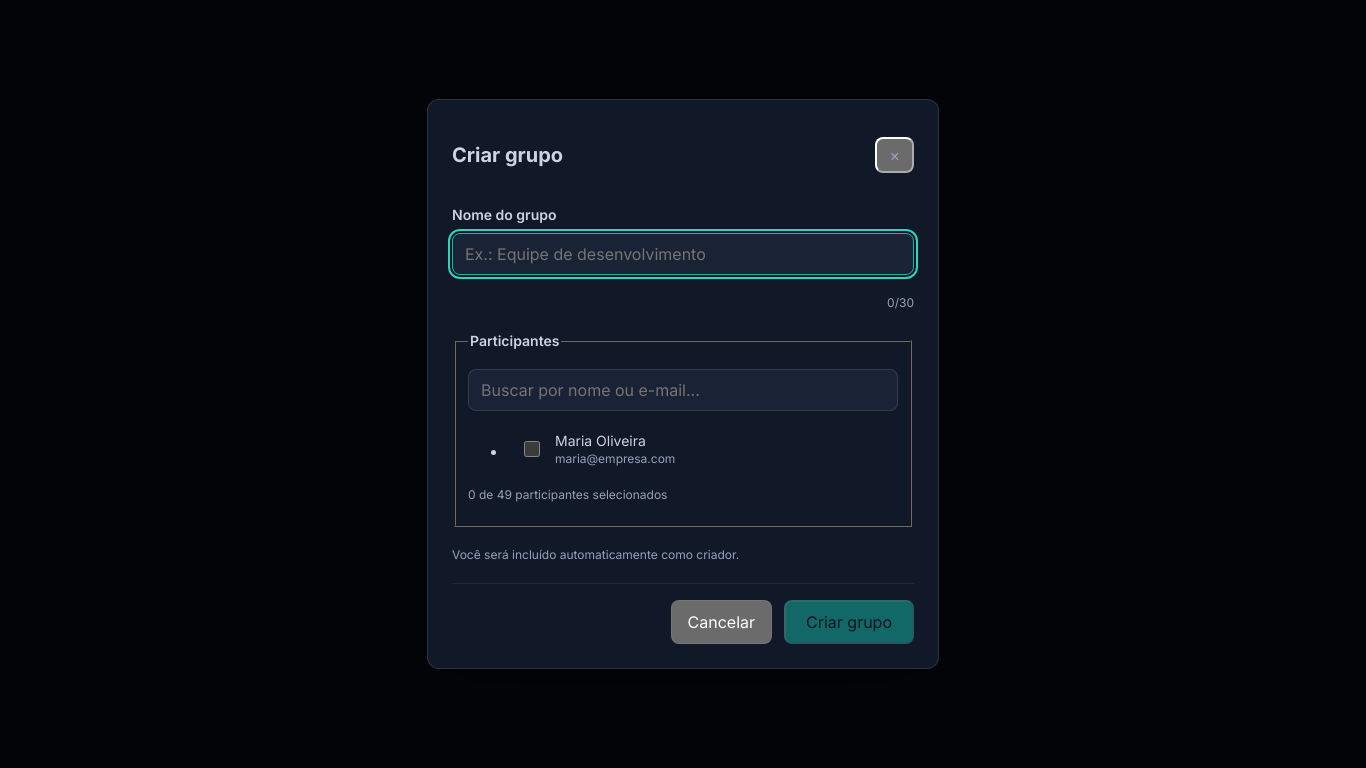
Test: deve rejeitar uma resposta sem grupo válido
Type "  Equipe  " into the field labelled "Nome do grupo" at (683, 254), box [452,233,914,275]
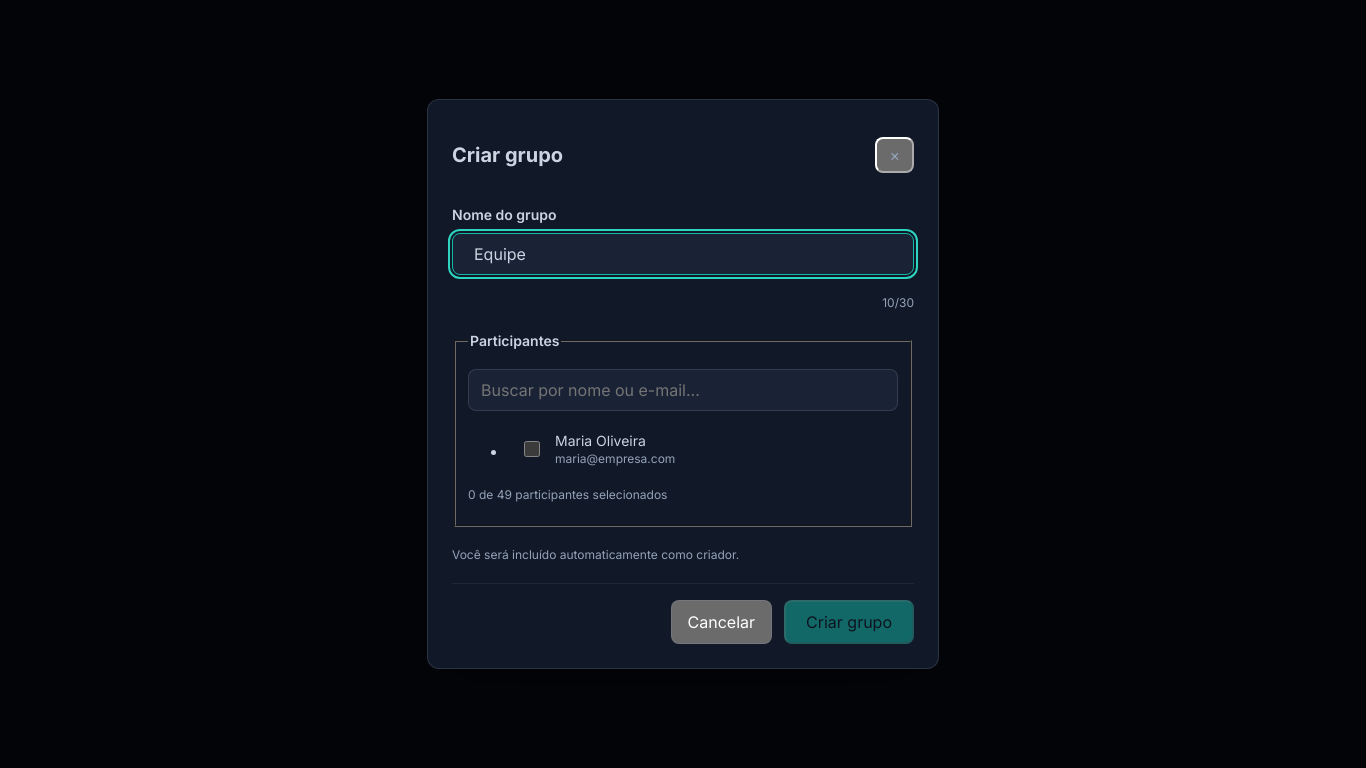
Click the checkbox named "Selecionar Maria Oliveira" at (532, 449), box [524,441,540,457]
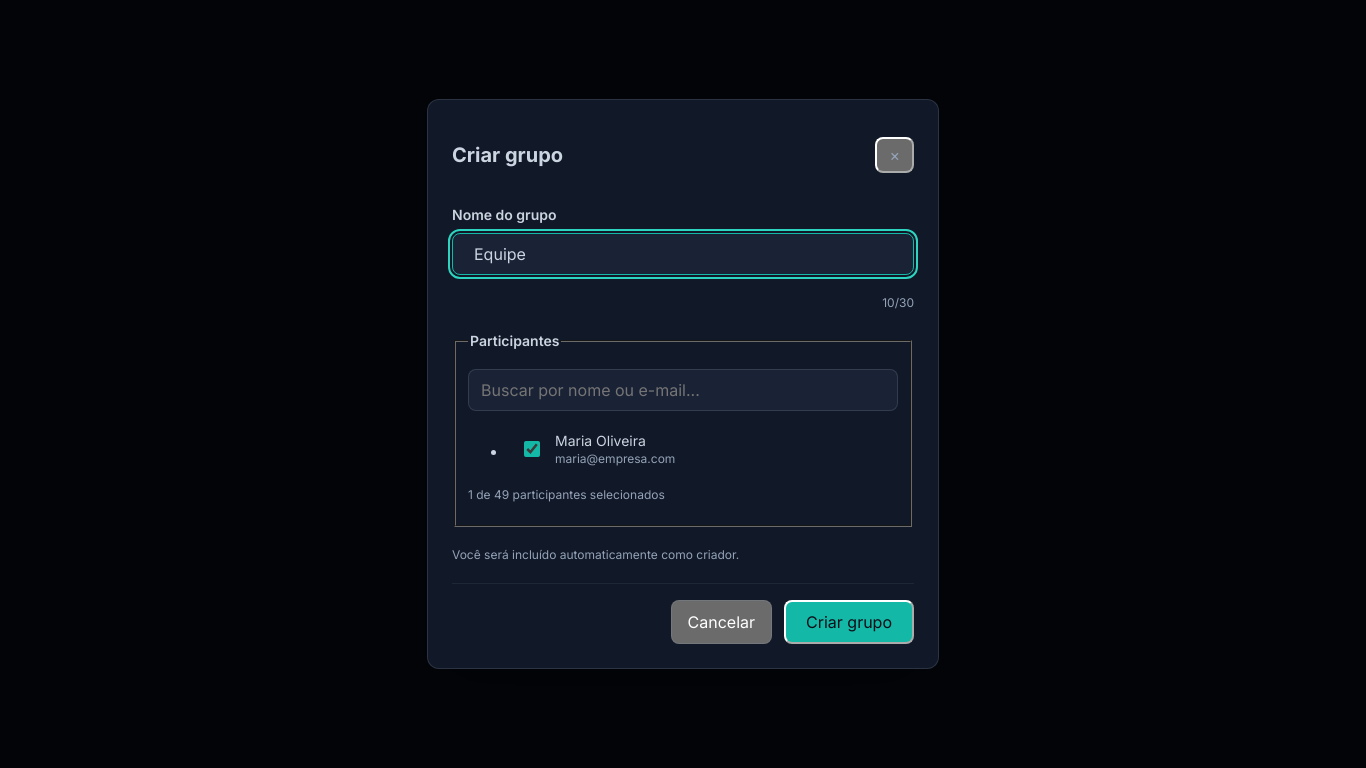
Click the button "Criar grupo" at (849, 622), box [784,600,914,644]
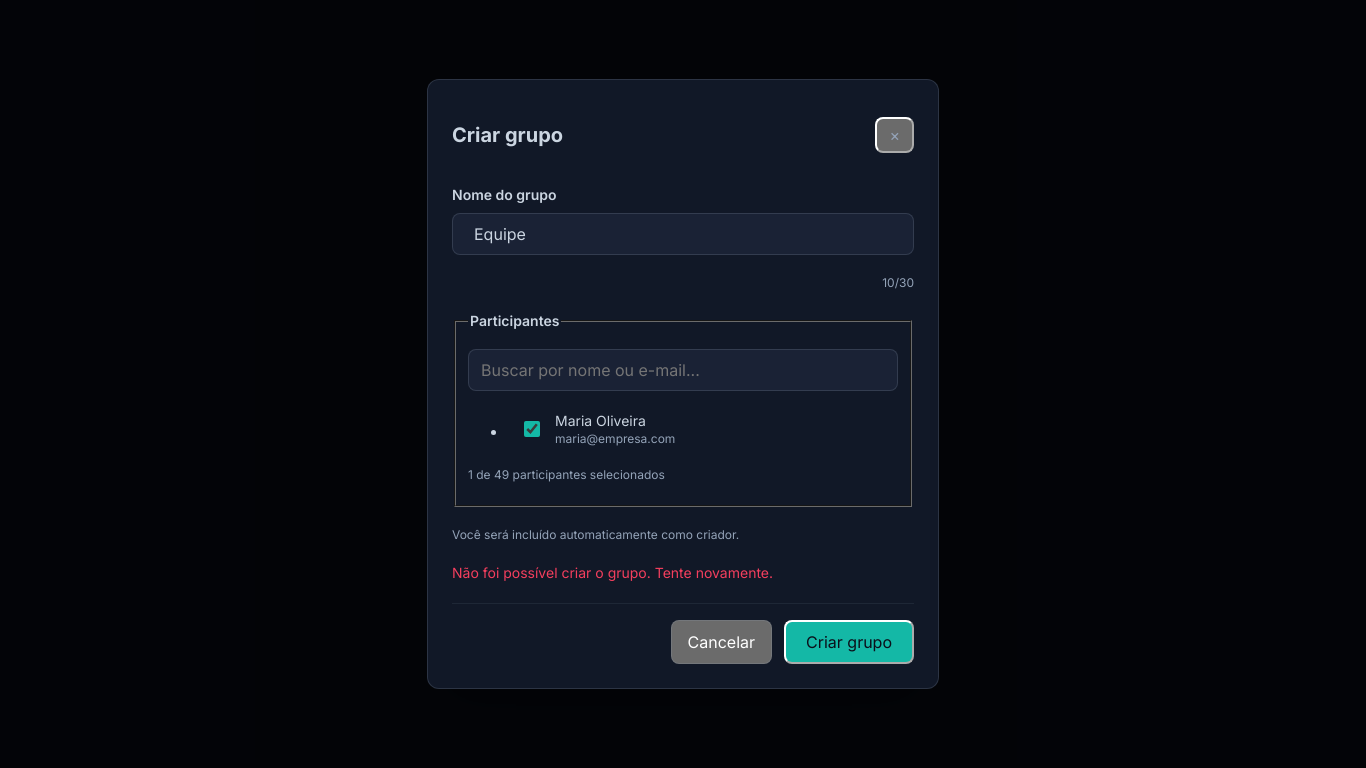
Expected: the message shows "Não foi possível criar o grupo.", [452,564,773,581]
